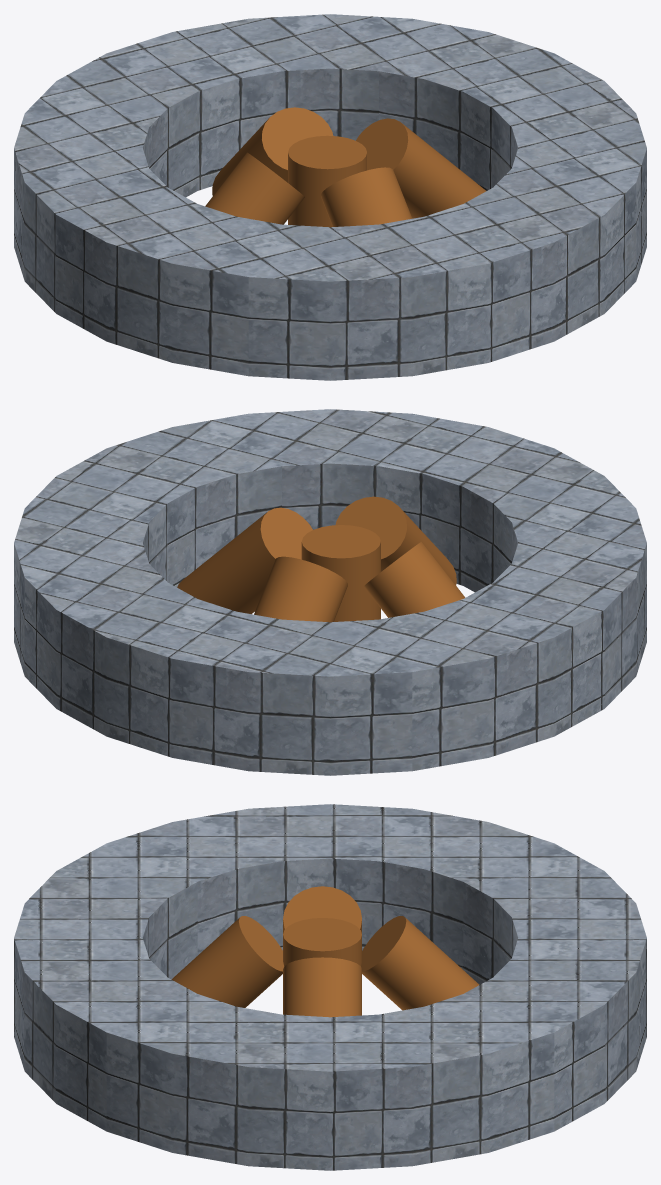
The model's file is FirePit.fbx.
3 renders of one model, top to bottom at view 1: azimuth 30°, elevation 25°; view 2: azimuth 150°, elevation 25°; view 3: azimuth 270°, elevation 25°, orthographic.
Visible parts, largest first — view 1: cylinderHollow, cylinder (×5); view 2: cylinderHollow, cylinder (×5); view 3: cylinderHollow, cylinder (×5).
Boxes of the visible parts, box(x1,y1,x2,y2) form: cylinderHollow: box(14, 14, 646, 380); cylinder (×5): box(205, 107, 486, 227); cylinderHollow: box(14, 409, 646, 775); cylinder (×5): box(177, 496, 465, 622); cylinderHollow: box(14, 804, 646, 1170); cylinder (×5): box(171, 886, 479, 1017).
Bounding box in the file's own units: 32.4 × 7.62 × 32.4.
